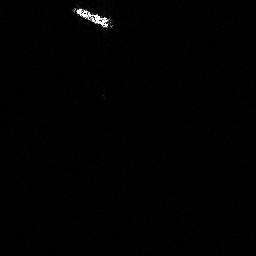ship: (69, 3, 118, 33)
